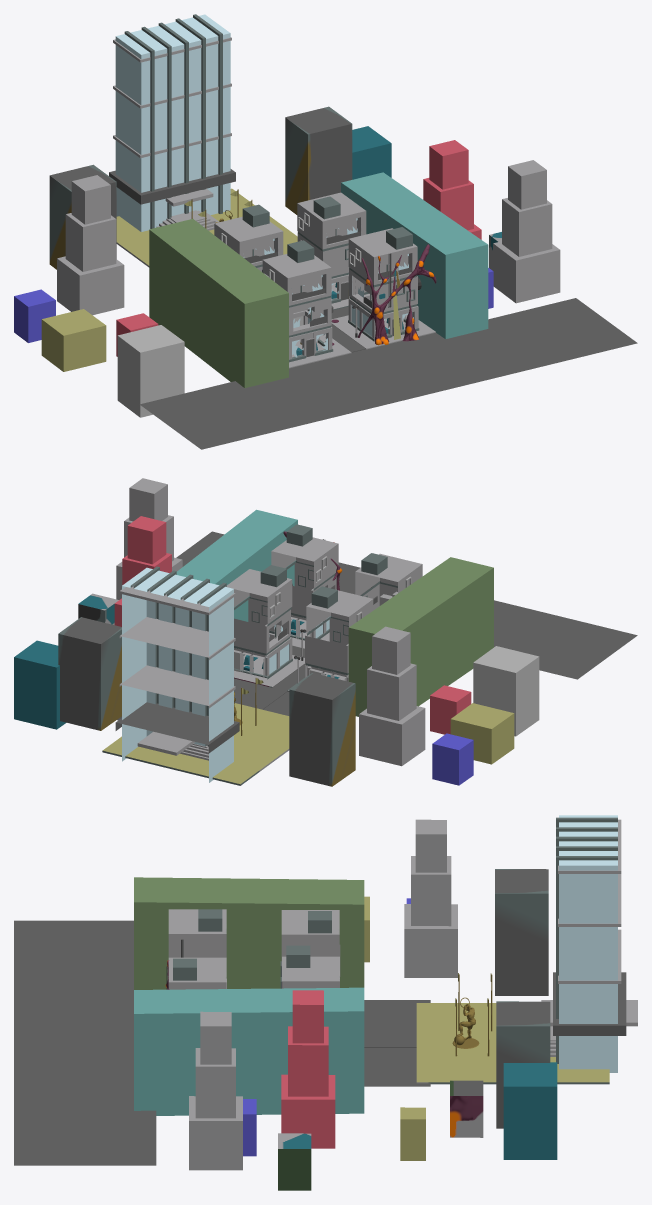
File: scena.1.fbx
The picture shows the model from 3 angles, top to bottom: view 1: azimuth 30°, elevation 25°; view 2: azimuth 150°, elevation 25°; view 3: azimuth 270°, elevation 25°; orthographic projection. The views are drawn at different scales.
Visible parts, largest first — view 1: scena1; view 2: scena1; view 3: scena1.
Boxes of the visible parts, x1,y1,x2,y2 form: scena1: (14, 14, 637, 449); scena1: (14, 478, 637, 786); scena1: (14, 815, 637, 1190).
Bounding box in the file's own units: 47.18 × 21.31 × 49.29.
1 material, 1 textured.
